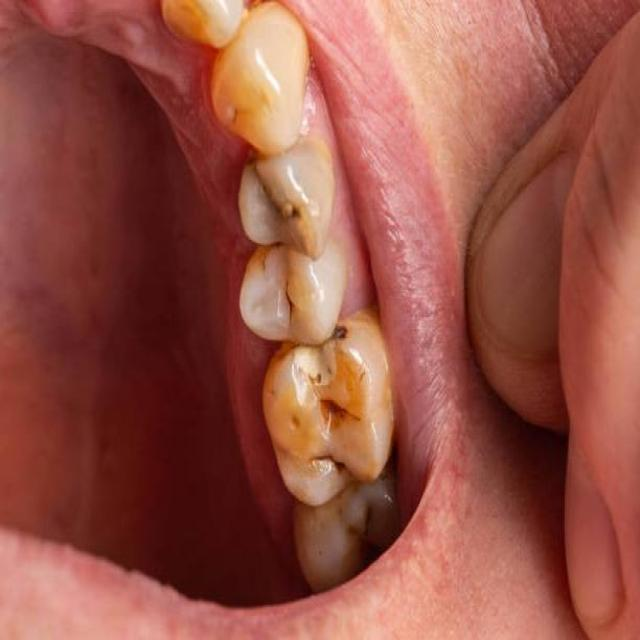caries: (289, 367, 365, 485), (253, 161, 307, 233), (346, 498, 388, 552), (272, 263, 309, 322), (323, 307, 357, 354)
